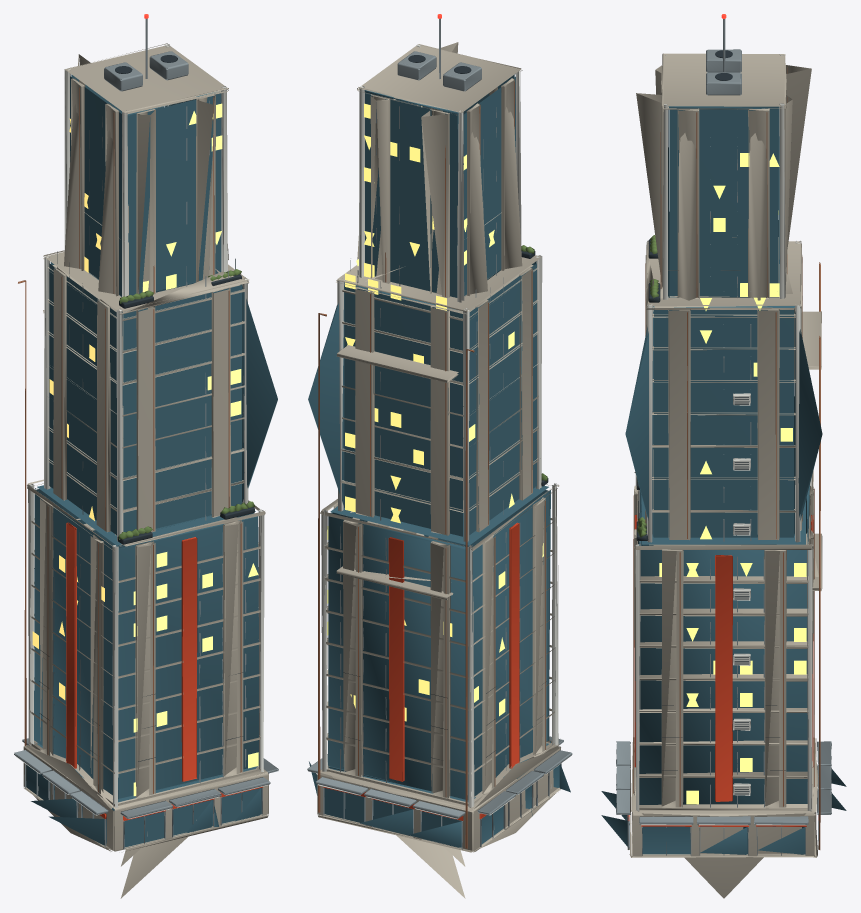
File: tower-3-lod.glb
3 renders of one model, left to right at view 1: azimuth 30°, elevation 25°; view 2: azimuth 150°, elevation 25°; view 3: azimuth 270°, elevation 25°, orthographic. The views are drawn at different scales.
Visible parts, largest first — view 1: NC sapphire glazing.003, NC mineral concrete.003, NC ceramic ivory.003, NC brushed titanium.003, NC vermilion.001, NC oxidized copper.003, NC amber.003, NC graphite.003, NC foliage.003; view 2: NC sapphire glazing.003, NC mineral concrete.003, NC ceramic ivory.003, NC brushed titanium.003, NC vermilion.001, NC oxidized copper.003, NC amber.003; view 3: NC sapphire glazing.003, NC mineral concrete.003, NC ceramic ivory.003, NC brushed titanium.003, NC vermilion.001, NC oxidized copper.003, NC amber.003, NC graphite.003.
Part boxes in pixels (left/top/right/bottom): NC sapphire glazing.003: left=26, top=74, right=277, bottom=847; NC mineral concrete.003: left=23, top=43, right=268, bottom=898; NC ceramic ivory.003: left=15, top=44, right=268, bottom=835; NC brushed titanium.003: left=14, top=18, right=278, bottom=849; NC vermilion.001: left=66, top=522, right=262, bottom=821; NC oxidized copper.003: left=18, top=87, right=241, bottom=793; NC amber.003: left=32, top=103, right=258, bottom=796; NC graphite.003: left=39, top=55, right=254, bottom=761; NC foliage.003: left=118, top=269, right=254, bottom=539; NC sapphire glazing.003: left=308, top=74, right=570, bottom=848; NC mineral concrete.003: left=317, top=42, right=560, bottom=898; NC ceramic ivory.003: left=318, top=44, right=570, bottom=829; NC brushed titanium.003: left=307, top=18, right=572, bottom=848; NC vermilion.001: left=323, top=522, right=519, bottom=820; NC oxidized copper.003: left=318, top=81, right=545, bottom=848; NC amber.003: left=327, top=103, right=543, bottom=721; NC sapphire glazing.003: left=601, top=106, right=846, bottom=854; NC mineral concrete.003: left=627, top=53, right=822, bottom=898; NC ceramic ivory.003: left=617, top=54, right=812, bottom=825; NC brushed titanium.003: left=616, top=19, right=831, bottom=855; NC vermilion.001: left=627, top=514, right=818, bottom=826; NC oxidized copper.003: left=633, top=67, right=820, bottom=849; NC amber.003: left=659, top=153, right=806, bottom=804; NC graphite.003: left=636, top=50, right=785, bottom=795.
Size of the model in its own units: 30.22 by 110 by 27.4.
